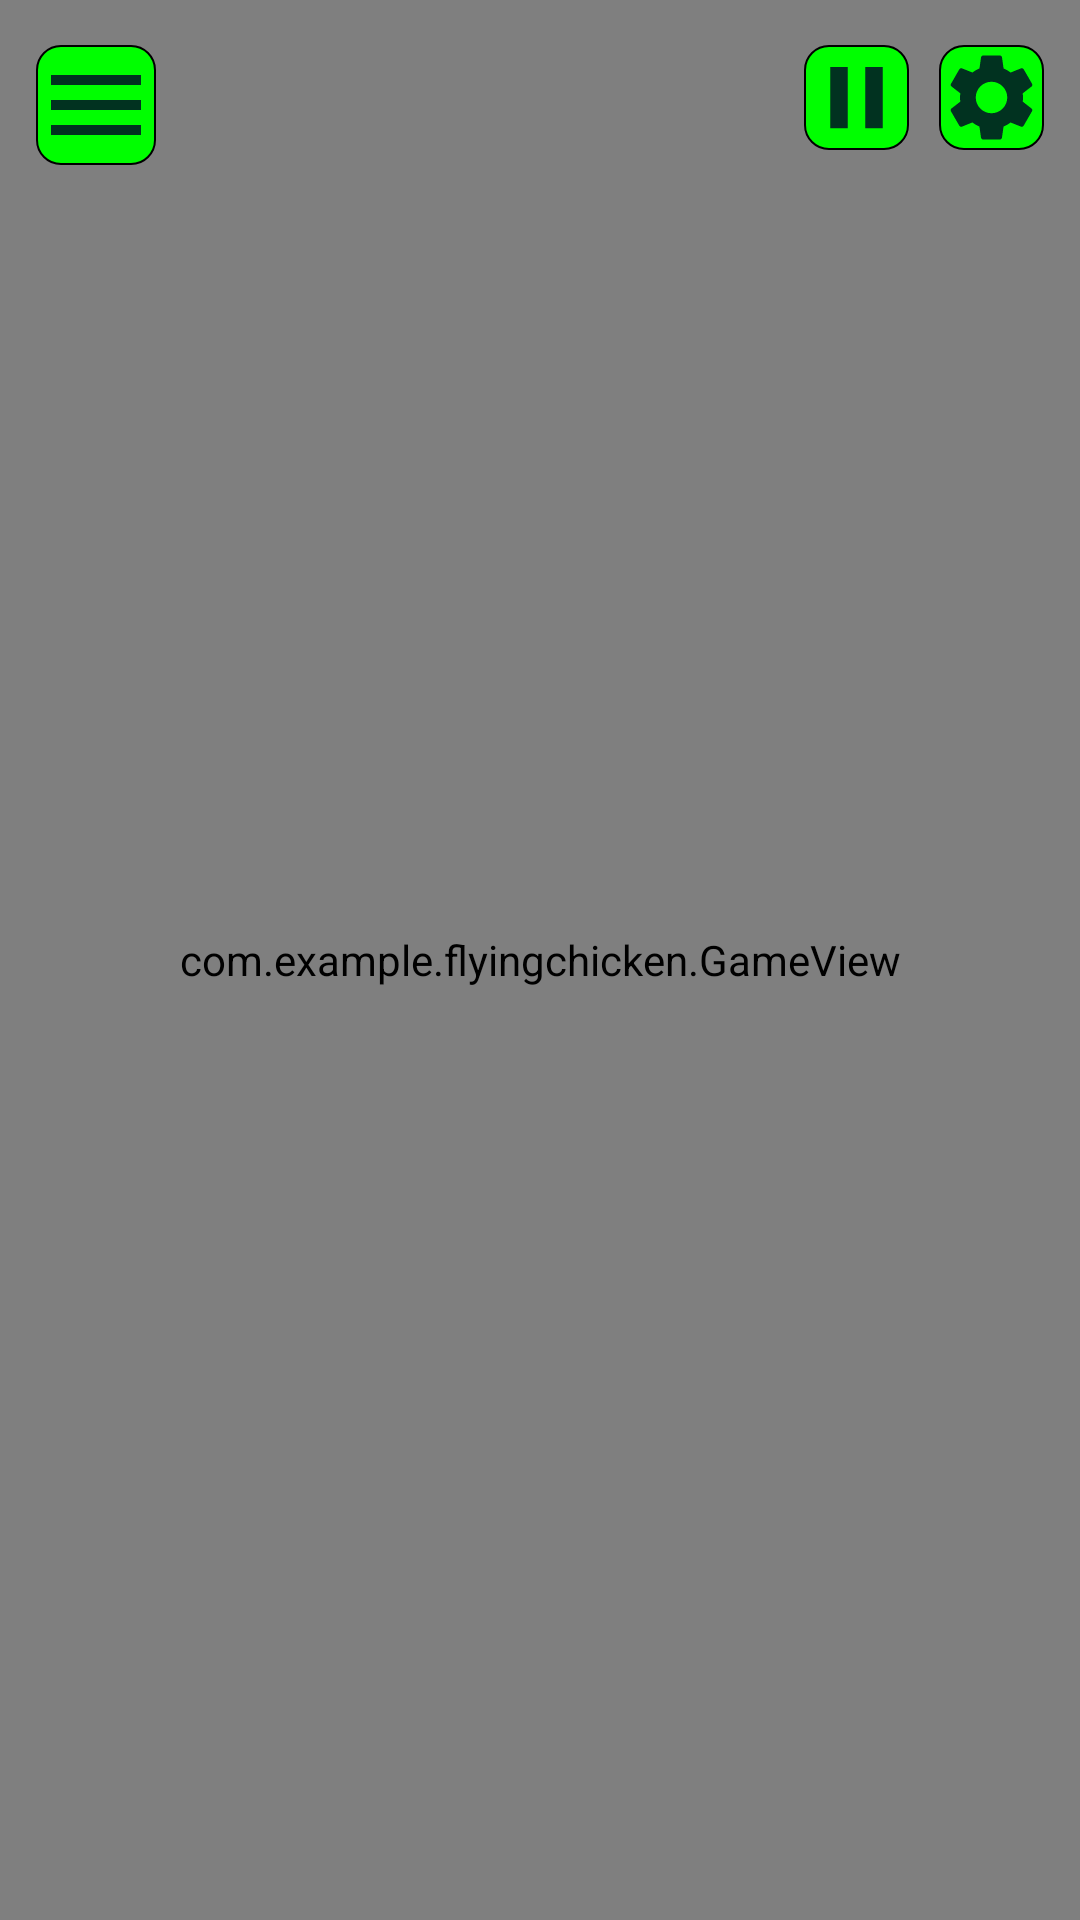

Named icons in this screenshot (1080px x 1920px) and their bounding boxes, (x1, y1, x2, y2):
menu: (36, 45, 156, 165)
option: (939, 45, 1044, 150)
pause: (804, 45, 909, 150)
